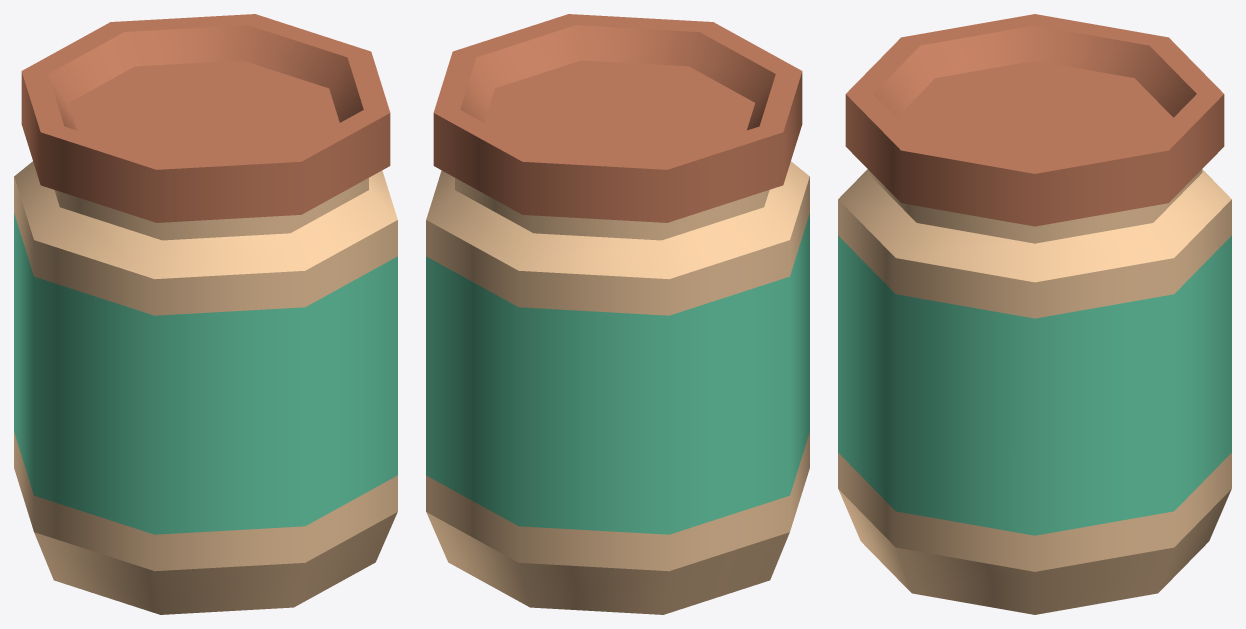
The model's file is peanutButter.GLB.
3 renders of one model, left to right at view 1: azimuth 30°, elevation 25°; view 2: azimuth 150°, elevation 25°; view 3: azimuth 270°, elevation 25°, orthographic.
Parts seen in each view (by area): view 1: peanutButter; view 2: peanutButter; view 3: peanutButter.
Boxes of the visible parts, x1,y1,x2,y2 form: peanutButter: (14, 14, 397, 614); peanutButter: (426, 14, 809, 614); peanutButter: (838, 14, 1231, 614).
Size of the model in its own units: 0.2359 by 0.2958 by 0.2359.
